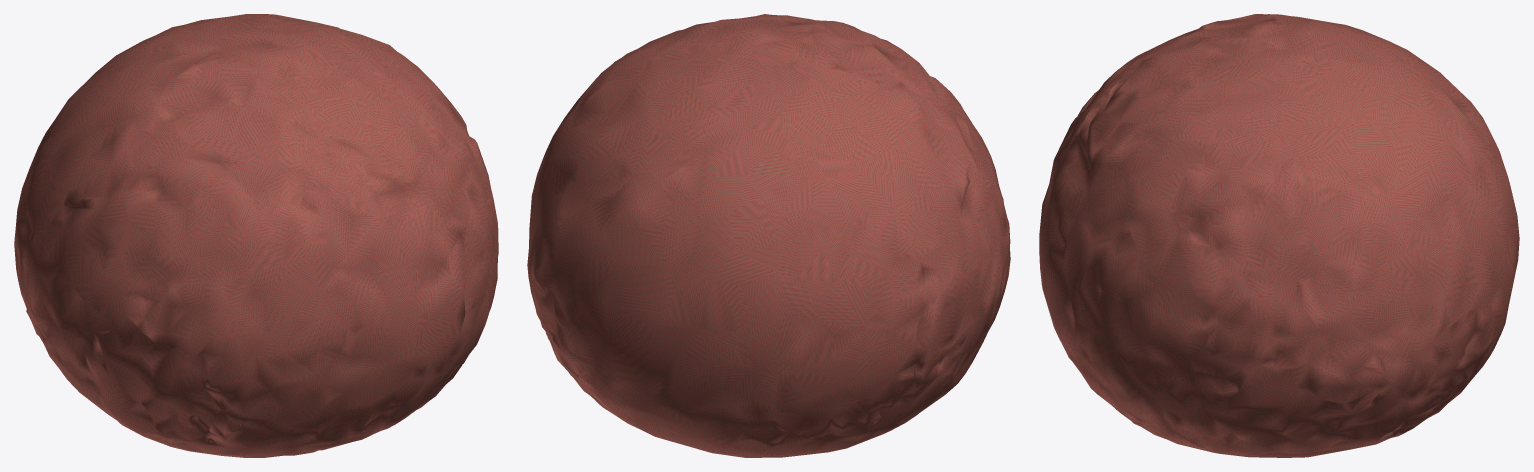
Rendered from hlg-redrock.glb.
3 views of the same model, side by side, from view 1: azimuth 30°, elevation 25°; view 2: azimuth 150°, elevation 25°; view 3: azimuth 270°, elevation 25° (orthographic).
Parts seen in each view (by area): view 1: geometry_0; view 2: geometry_0; view 3: geometry_0.
Boxes of the visible parts, x1,y1,x2,y2 form: geometry_0: (14,14,498,457); geometry_0: (527,14,1010,457); geometry_0: (1039,14,1519,457).
Bounding box in the file's own units: 2621 × 2289 × 2614.
Materials: 1 (1 with a texture image).
